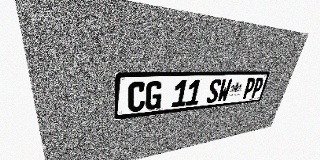1: (171, 80, 189, 107), (185, 79, 202, 106)
C: (127, 81, 146, 113)
G: (145, 81, 163, 110)
P: (241, 78, 257, 99), (250, 77, 265, 98)
S: (206, 79, 222, 103)
W: (217, 78, 233, 102)
